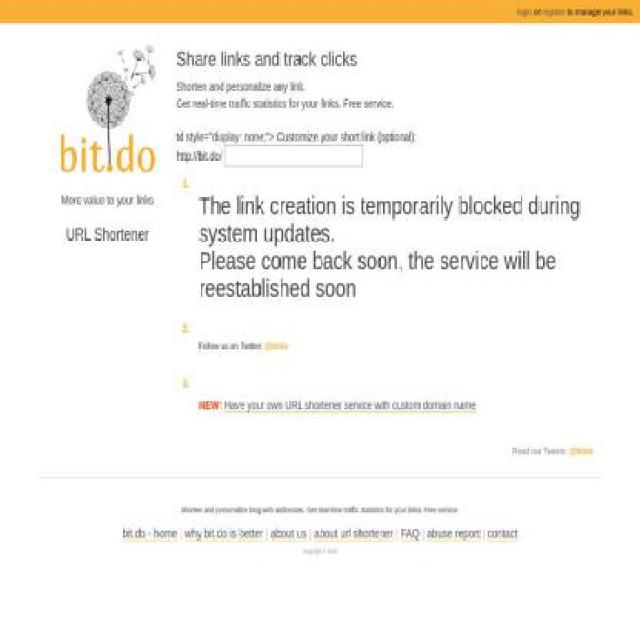button: (224, 398, 476, 412), (185, 525, 263, 541), (314, 525, 392, 541), (121, 525, 177, 541), (426, 525, 480, 541), (270, 525, 307, 541), (487, 525, 518, 541), (400, 525, 420, 541), (542, 7, 566, 18), (517, 7, 532, 18)
field: (224, 145, 364, 167)
